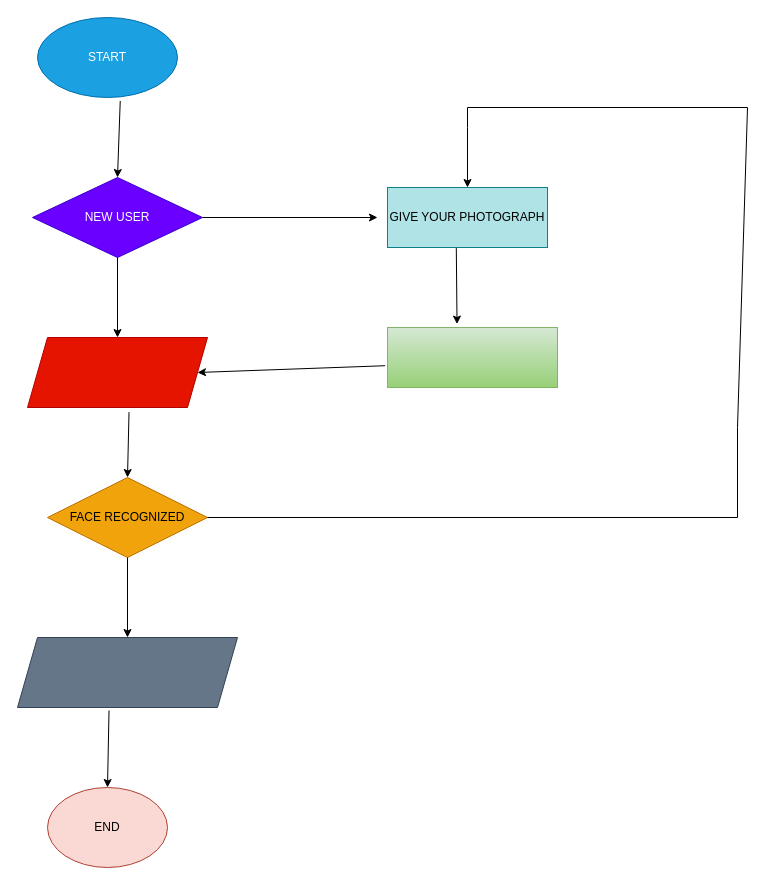
Some shapes in this 766 by 885 pixel diagram are drawn without their labels. Each missing label, with the centre of its shape:
RECOGNIZE THE FACE: the point at 117,372
STORE THE FACE DATA: the point at 472,357
STORED IN CSV FILE WITHREGISTRATION NUMBER: the point at 127,672
